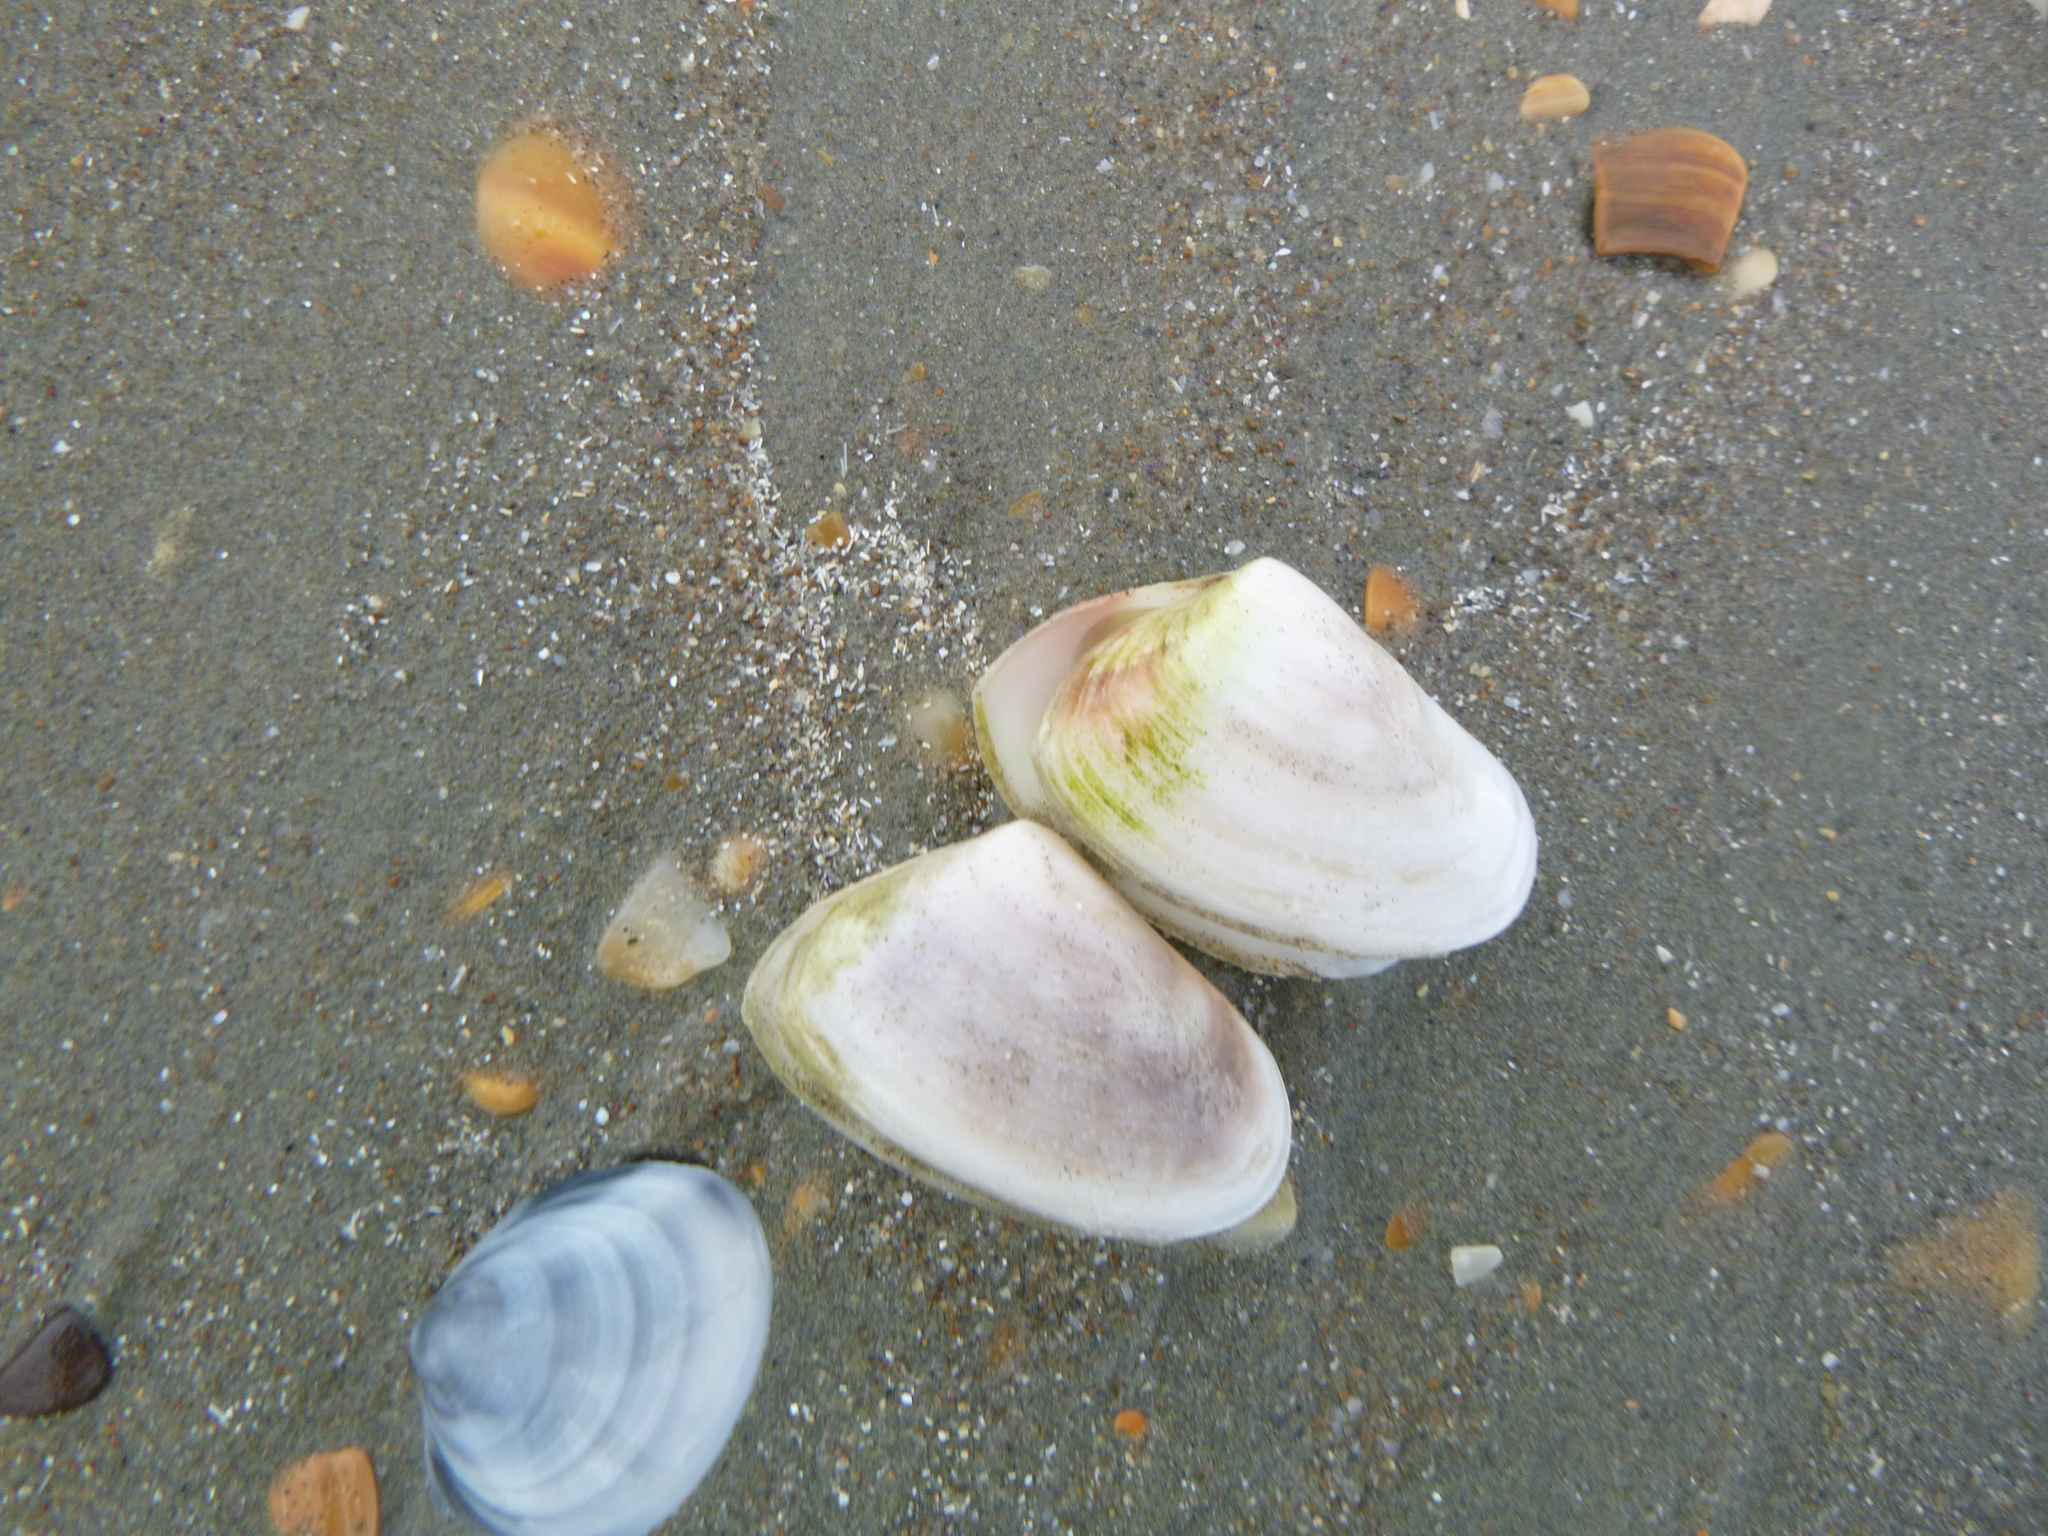tuatua: (740, 805, 1306, 1249), (1026, 557, 1548, 986)
